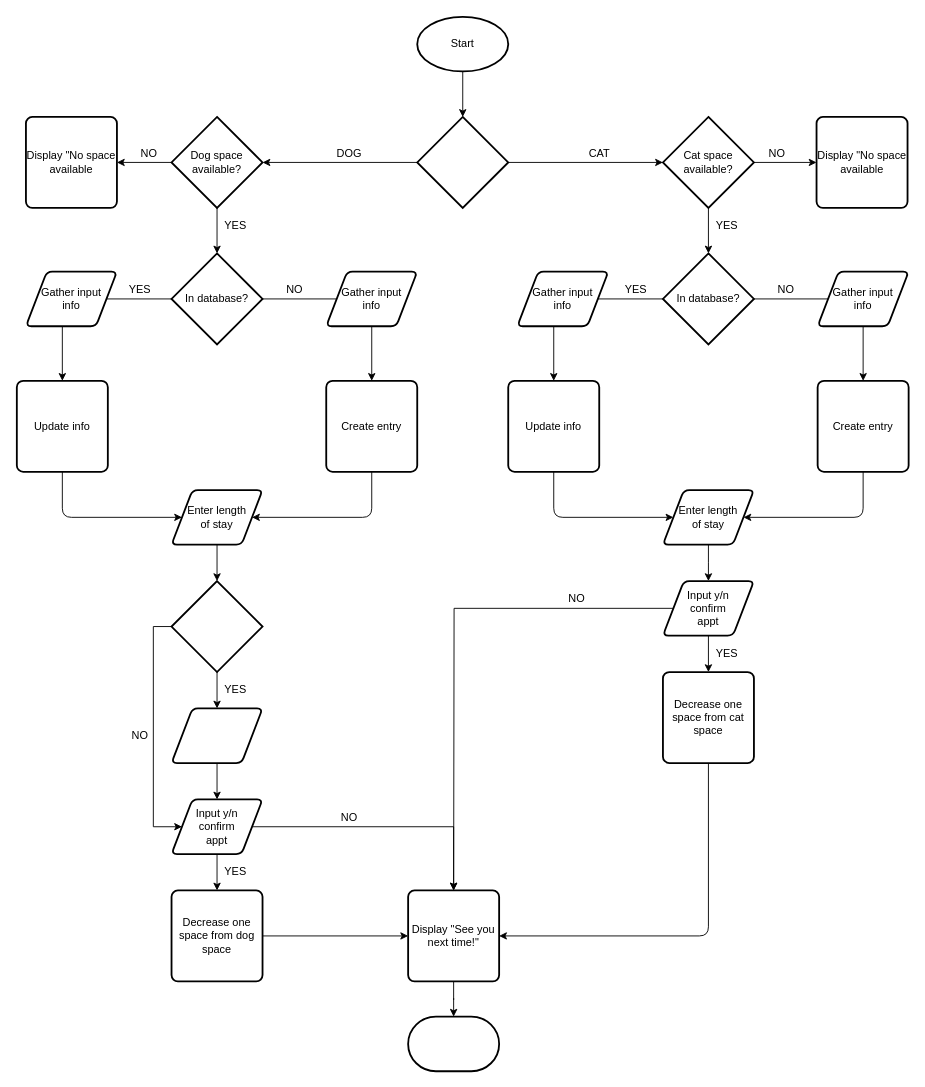
Image size: 925x1087. Some labels were removed from this diagram. Each missing label, with the centre of its shape:
Dog or Cat?: point 462,162
End: point 453,1043
Input y/n Grooming Services: point 216,735
Length of stay > 2 days?: point 216,626
